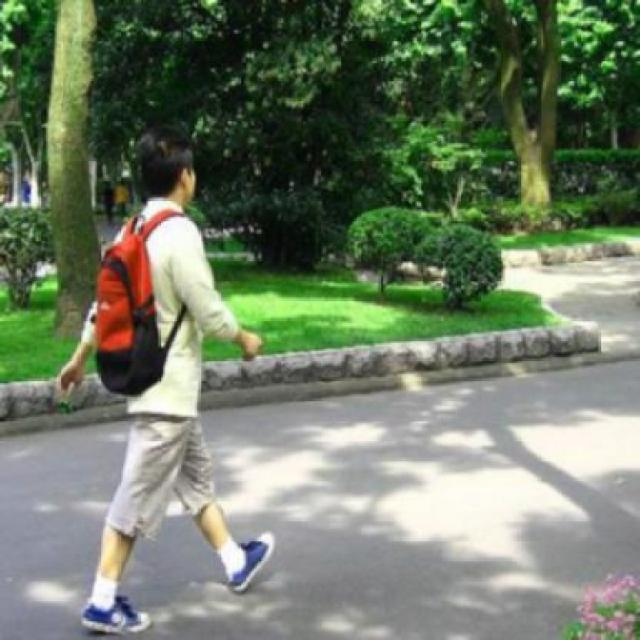Person: (55, 136, 276, 638)
